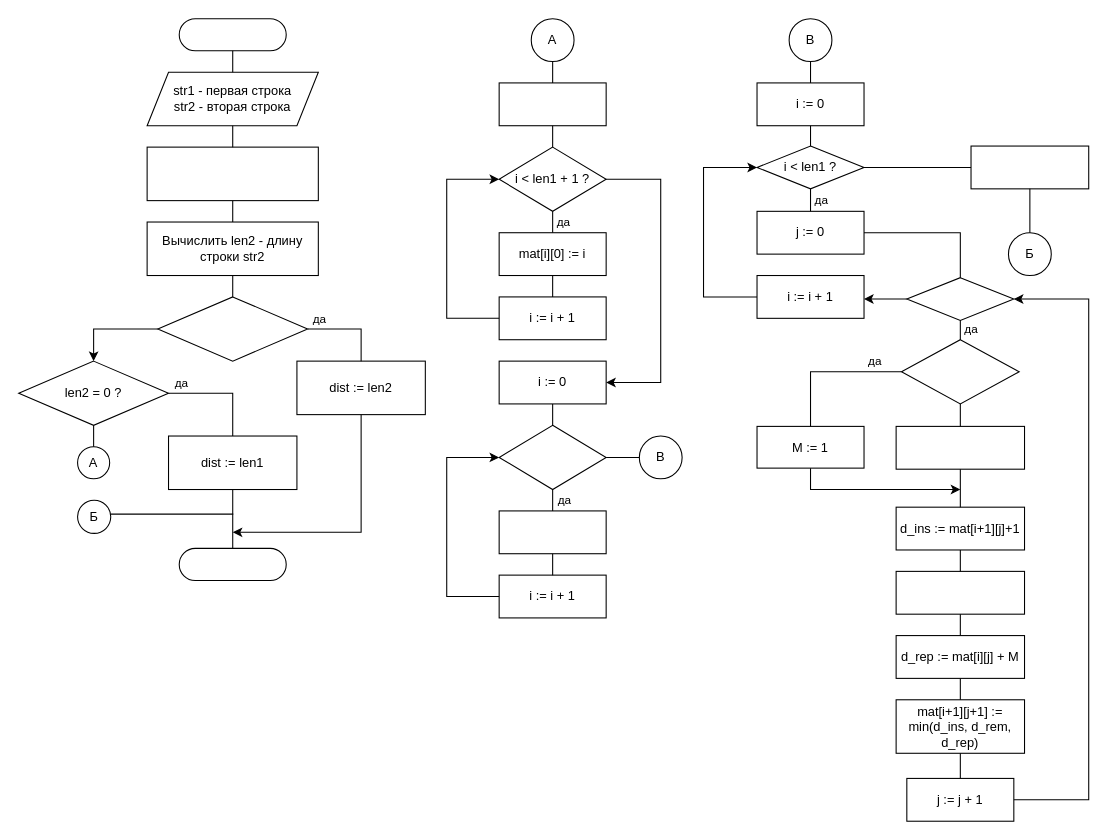
Image size: 1116x840. Some labels were removed from this diagram. Each missing label, with the centre of its shape:
"d_rem := mat[i][j+1]+1" goes at pixel 960 592.
"dist := mat[len1+1][len2+1]" goes at pixel 1029 167.
"i := 1" goes at pixel 552 104.
"i < len2 + 1 ?" goes at pixel 552 457.
"j < len2 ?" goes at pixel 960 298.
"len1 = 0 ?" goes at pixel 232 328.
"M := 0" goes at pixel 960 447.
"mat[0][i] := i" goes at pixel 552 532.
"str1[j] = str2[i] ?" goes at pixel 959 371.
"Вычислить len1 - длину строки str1" goes at pixel 232 173.
"Конец" goes at pixel 232 563.
"Начало" goes at pixel 232 34.
